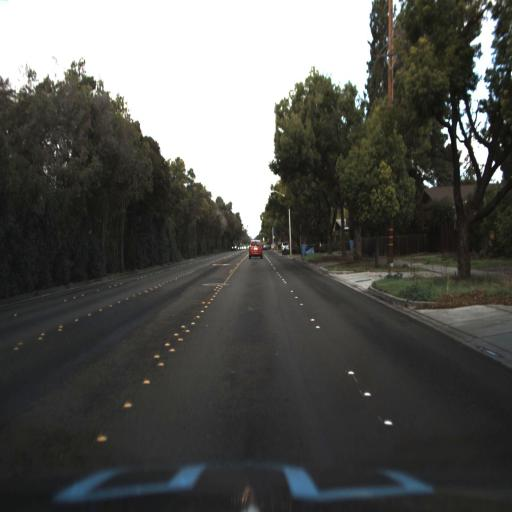car: (244, 234, 265, 264)
